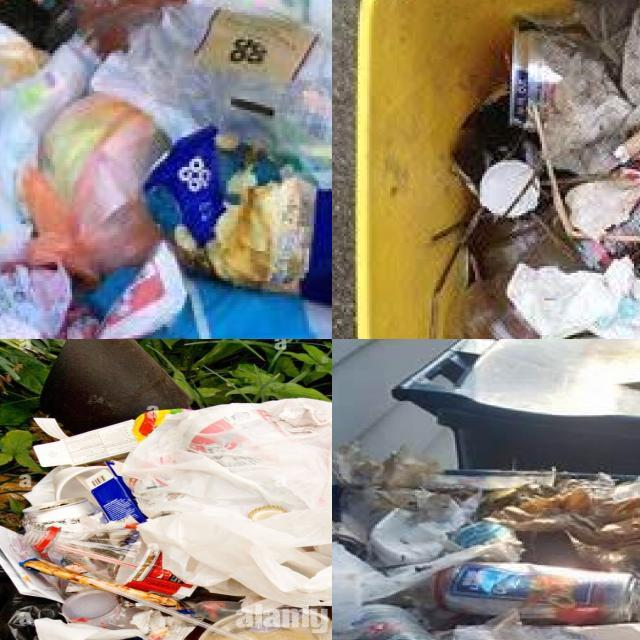Disposable: (198, 606, 330, 640)
Garbage: (0, 400, 332, 640), (454, 0, 640, 339), (332, 452, 640, 640)
Plastic: (142, 278, 332, 339), (62, 589, 120, 620)
Plastic_Bag: (122, 398, 332, 606), (0, 243, 186, 339), (452, 614, 590, 640)
Plastic_bottle: (25, 523, 194, 597)
Plastic_wraper: (91, 5, 332, 188), (144, 126, 317, 291), (21, 93, 170, 279), (23, 559, 174, 606), (131, 408, 184, 440)
Tetrapack: (85, 467, 147, 523)
can: (435, 562, 640, 624), (510, 24, 576, 127)
